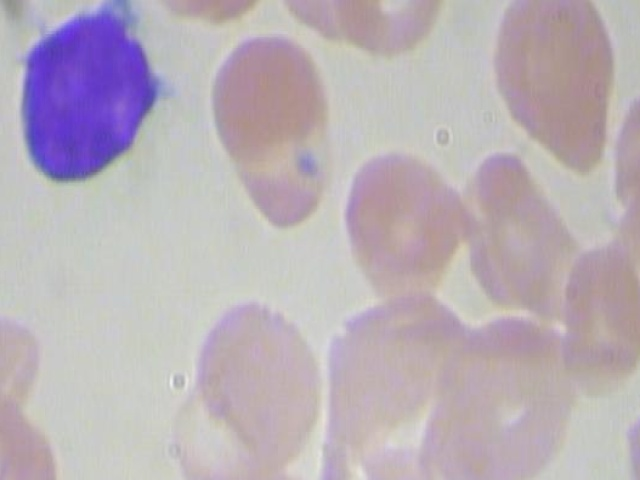RBC: (206, 25, 337, 239), (179, 282, 328, 467), (487, 0, 637, 177), (340, 138, 486, 316), (331, 0, 447, 56), (0, 290, 41, 433), (0, 403, 72, 480), (269, 0, 385, 41), (609, 77, 640, 222), (133, 0, 268, 31), (611, 395, 640, 480), (229, 468, 327, 480), (0, 0, 14, 8)
WBC: (0, 0, 183, 205)
